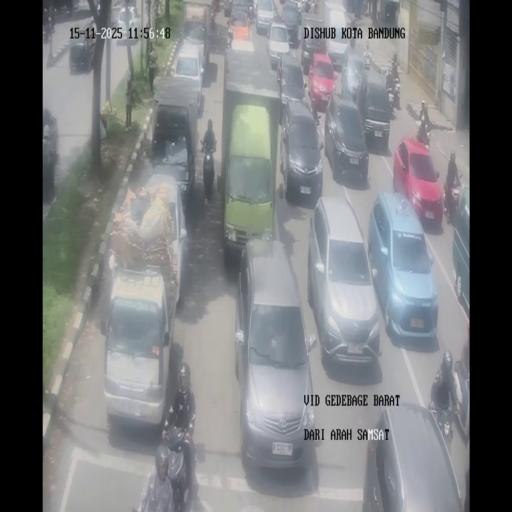3: (324, 3, 354, 69), (51, 0, 76, 19)
car: (234, 240, 316, 473), (308, 195, 380, 368), (102, 268, 174, 428), (362, 402, 466, 510), (369, 192, 438, 343), (222, 101, 277, 262), (149, 100, 196, 203), (279, 98, 323, 208), (358, 74, 392, 150), (172, 42, 206, 111), (276, 52, 306, 110), (70, 21, 98, 74), (42, 109, 58, 193), (340, 50, 365, 103), (300, 26, 326, 72), (279, 1, 303, 46), (116, 6, 140, 43), (255, 0, 277, 34)
truck: (162, 421, 195, 503), (427, 385, 453, 444), (443, 174, 461, 224), (201, 146, 216, 200), (387, 76, 401, 110), (416, 120, 430, 147), (226, 19, 234, 48), (315, 122, 323, 150), (313, 99, 321, 126), (42, 17, 50, 43), (246, 0, 255, 23), (48, 10, 56, 35), (272, 2, 282, 21), (363, 47, 371, 69), (210, 8, 217, 30), (298, 0, 309, 12), (224, 1, 232, 17), (377, 8, 384, 24), (361, 1, 368, 16), (312, 0, 319, 13), (95, 0, 101, 14)
